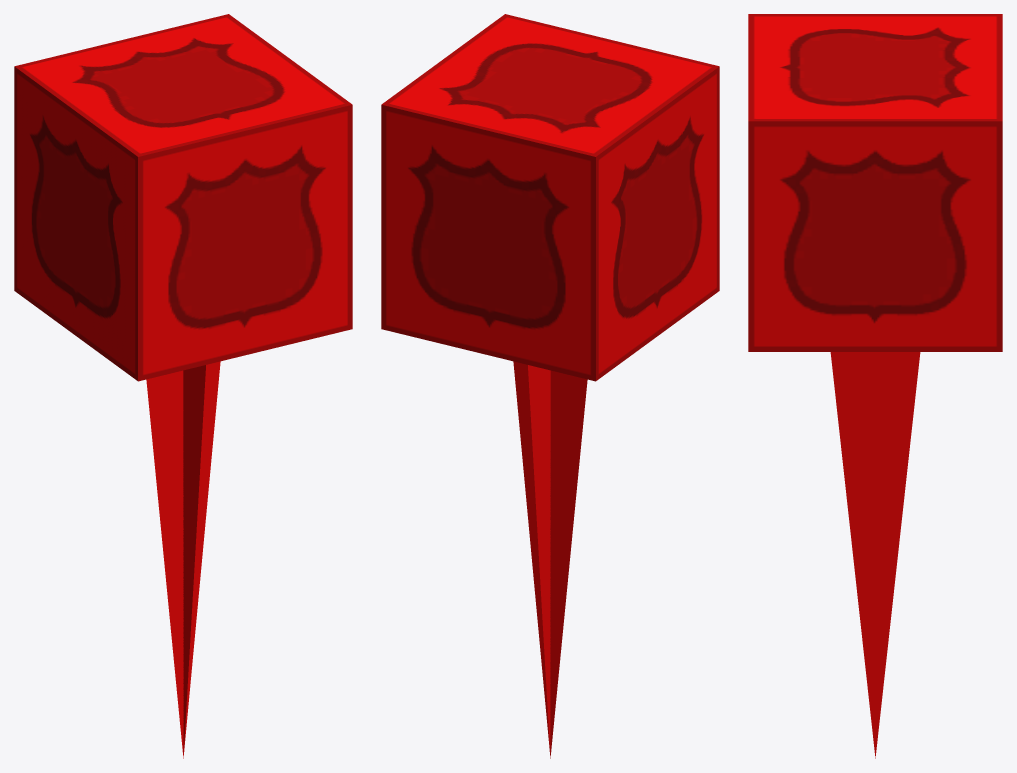
Rendered from godclient_waypoint_guard.fbx.
3 views of the same model, side by side, from view 1: azimuth 30°, elevation 25°; view 2: azimuth 150°, elevation 25°; view 3: azimuth 270°, elevation 25° (orthographic). The views are drawn at different scales.
Visible parts, largest first — view 1: mesh_node; view 2: mesh_node; view 3: mesh_node.
Boxes of the visible parts, bbox=[...] form: mesh_node: bbox=[14, 14, 352, 758]; mesh_node: bbox=[381, 14, 719, 758]; mesh_node: bbox=[748, 14, 1002, 758].
Size of the model in its own units: 0.5 by 1.5 by 0.5.
